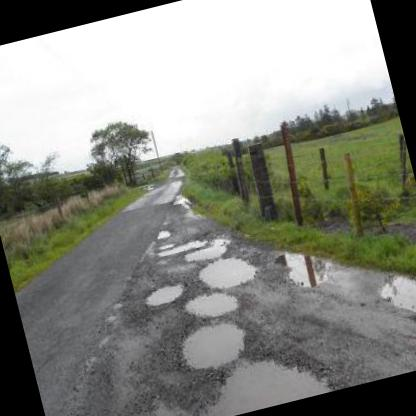pothole: (188, 336, 342, 416), (174, 313, 253, 374), (193, 248, 259, 294), (181, 283, 240, 324), (122, 389, 197, 416), (139, 278, 188, 310), (182, 235, 233, 264), (154, 238, 208, 260), (154, 227, 172, 241)
